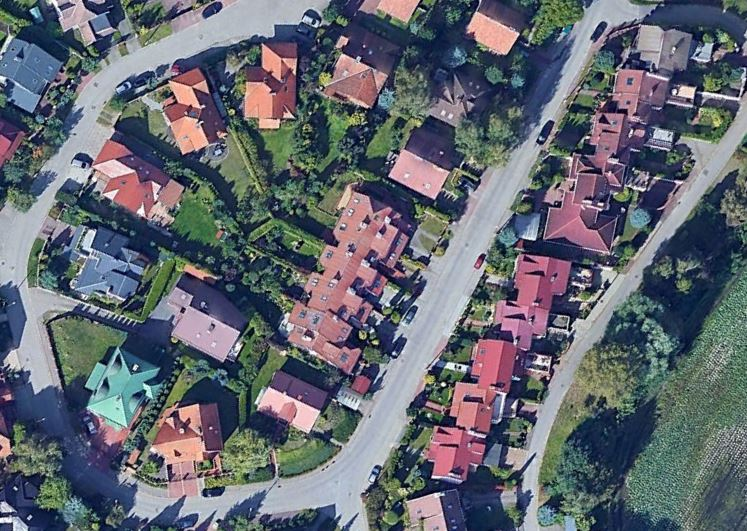family house: (92, 136, 189, 230), (164, 272, 251, 366), (66, 218, 154, 309), (73, 346, 166, 428), (319, 23, 406, 109), (159, 63, 229, 163), (241, 36, 304, 135), (147, 398, 225, 468), (419, 66, 509, 125), (249, 370, 328, 437), (382, 134, 460, 200), (1, 33, 64, 113), (461, 1, 529, 59), (401, 487, 476, 531), (361, 1, 420, 26)
terrace house: (532, 20, 696, 256), (420, 251, 574, 489), (278, 190, 418, 373)
